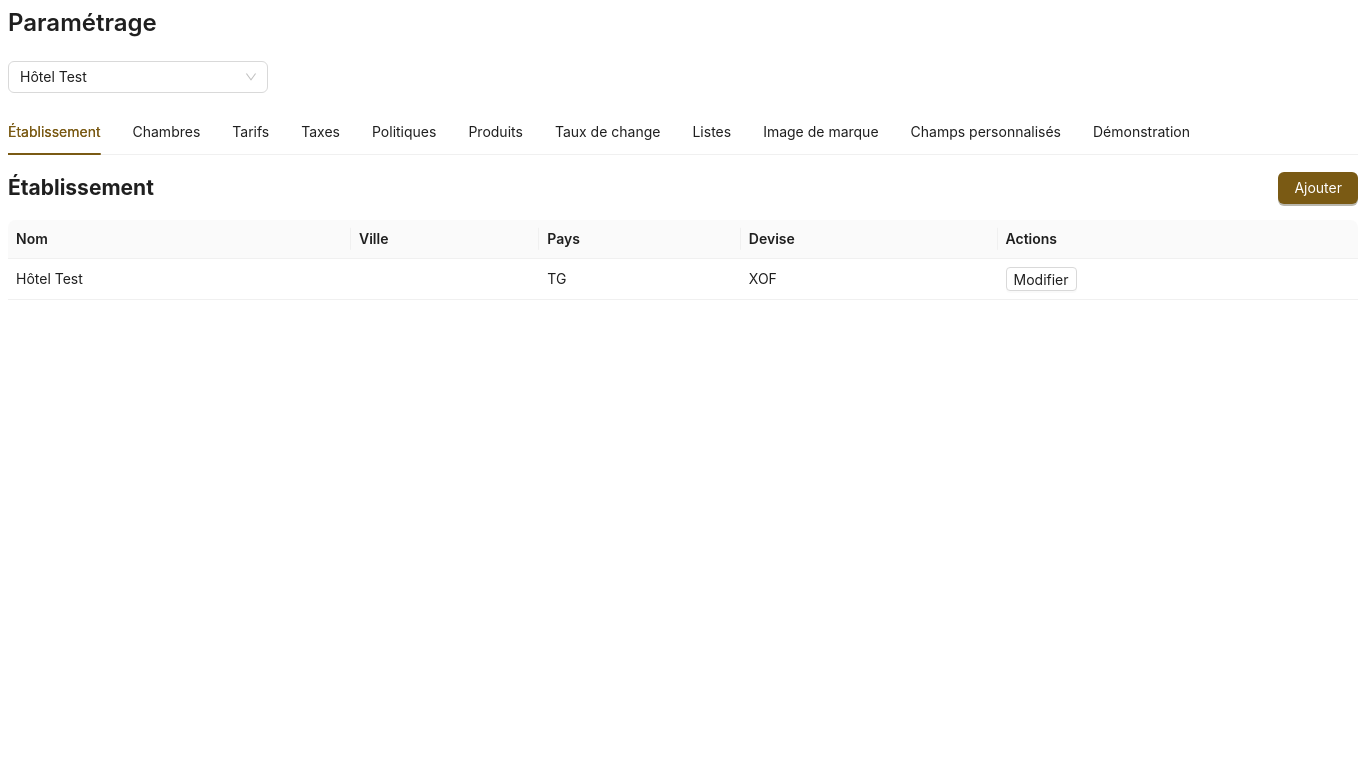
Test: settings display fixes › translates housekeeping statuses instead of showing raw enums
expect the text "Hôtel Test" is shown: met, box top-left (20, 68), bottom-right (87, 85)
Click the tab "Chambres" at (166, 132), box top-left (132, 121), bottom-right (200, 143)
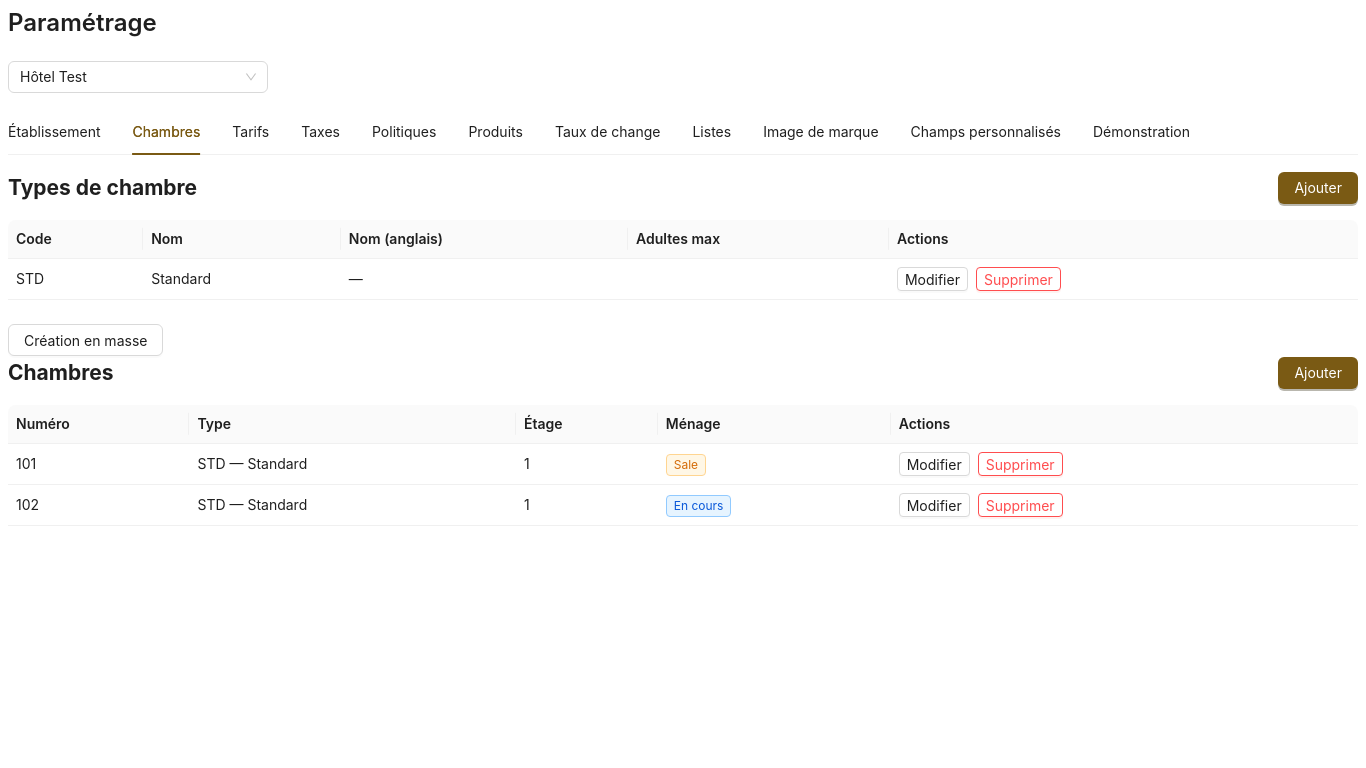
expect the text "En cours" is shown: met, box top-left (666, 494), bottom-right (732, 516)
